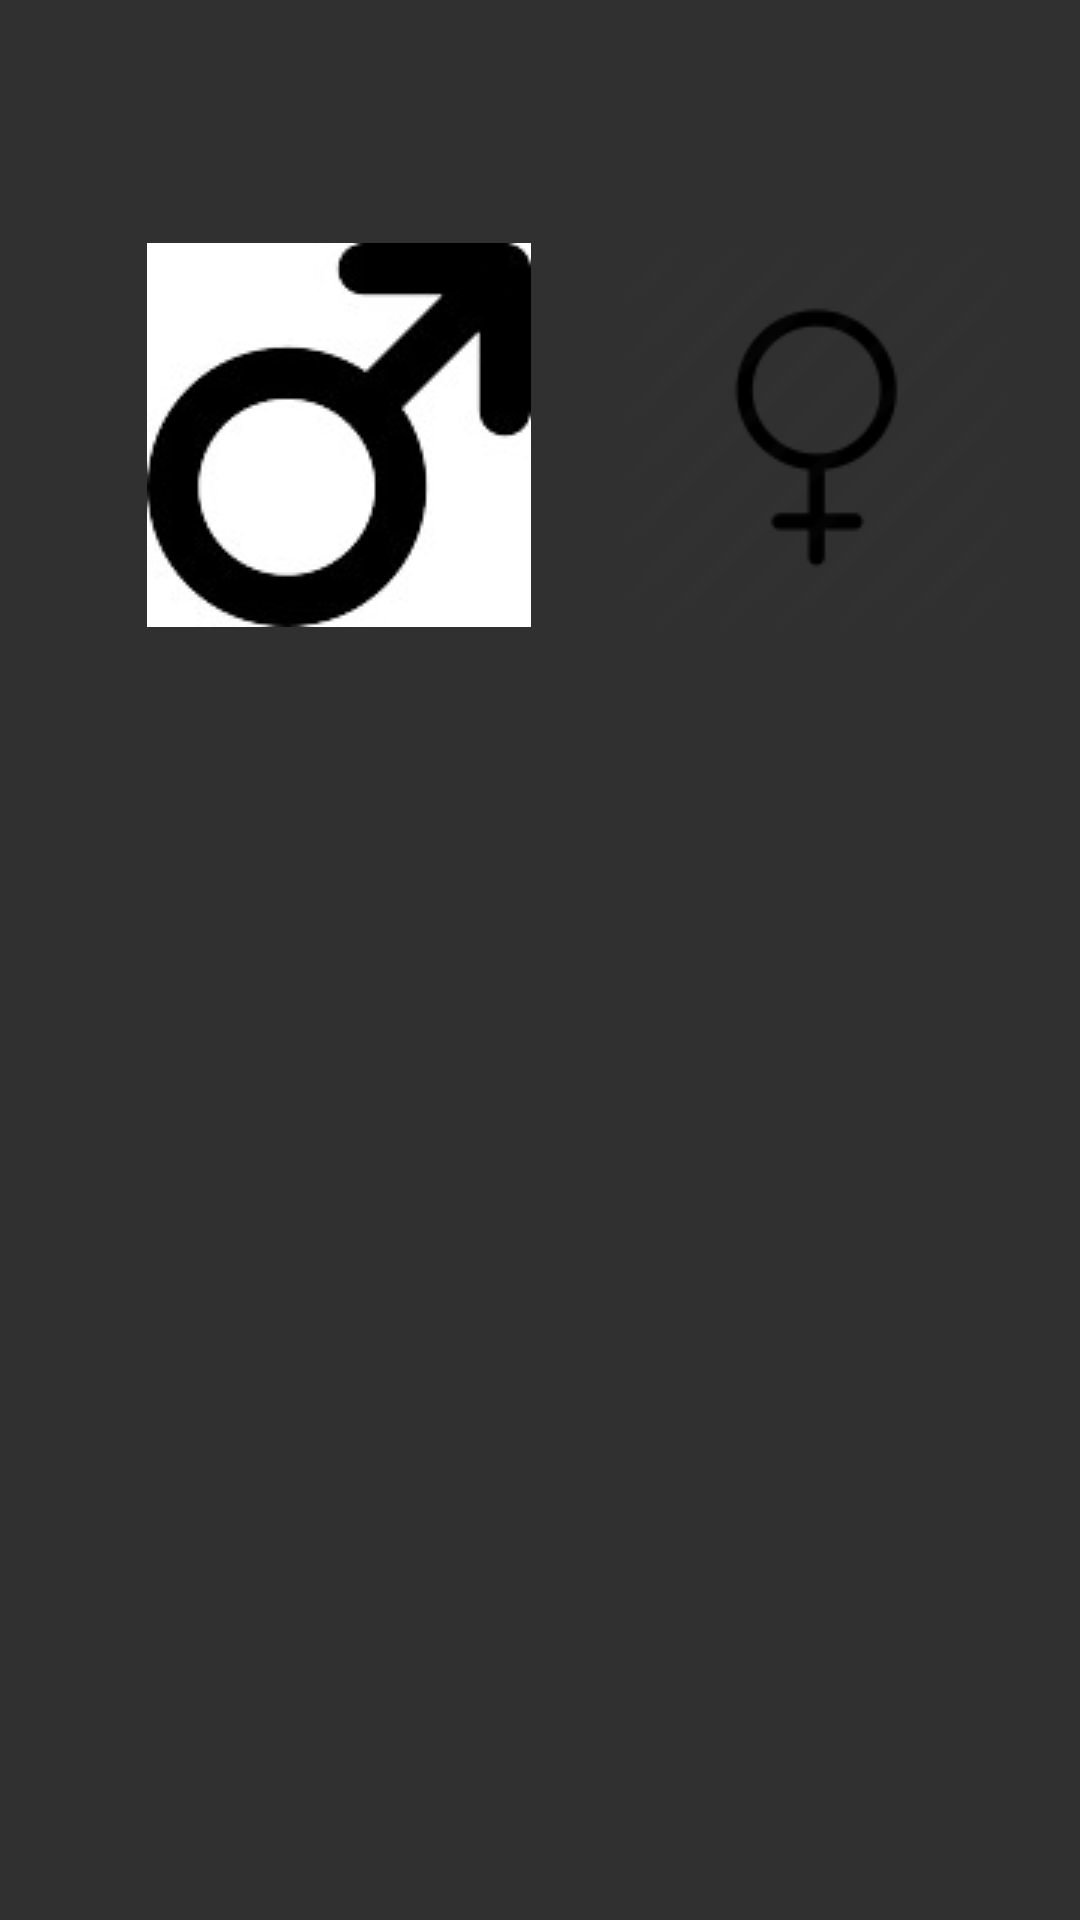

Screen size 1080 x 1920. Icon name, then its center in pixels as [x,y]:
female: [816,437]
